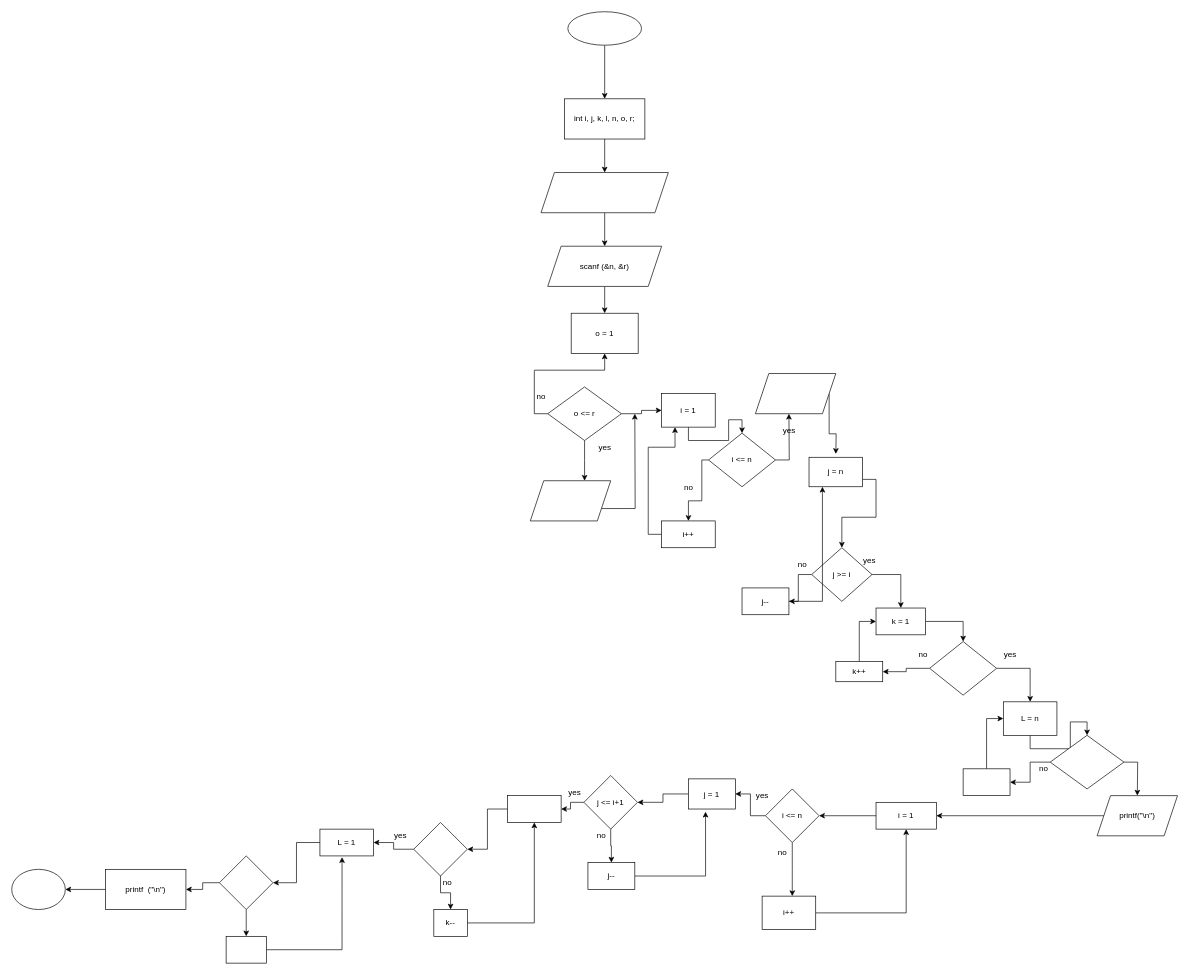
This 1189x975 diagram has some shape labels left out. Here are the shapes that lost their labels. From the top down, the box of each, then its label:
(567, 11, 642, 45): start
(540, 172, 668, 213): printf (nenter (space)r:);
(755, 373, 836, 414): printf ( " * ")
(530, 480, 611, 521): printf ( " - " )
(929, 641, 997, 695): k <= i
(962, 768, 1010, 796): L --
(1050, 735, 1124, 789): L >= i
(507, 795, 561, 822): k = n
(413, 822, 467, 876): k >= n
(11, 869, 65, 910): end
(219, 855, 273, 910): L <= i
(225, 936, 266, 963): L++
